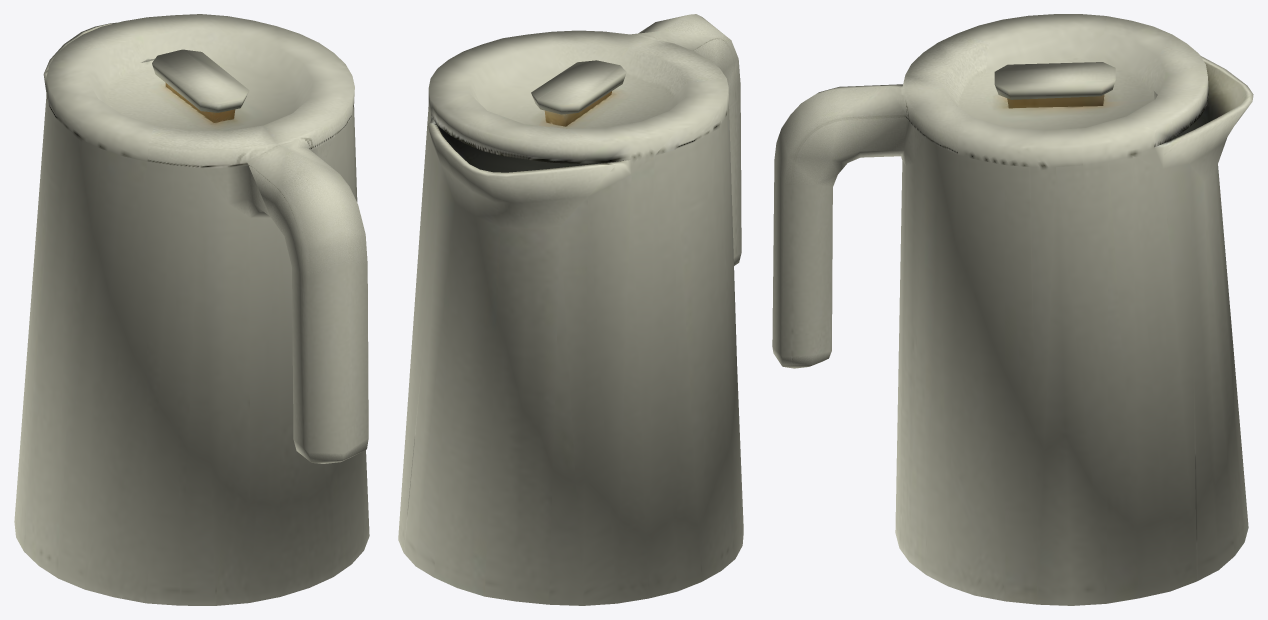
Rendered from tripo_convert_b9571f3a-6450-4f92-a36a-bebbc66baf66.fbx.
The picture shows the model from 3 angles, left to right: view 1: azimuth 30°, elevation 25°; view 2: azimuth 150°, elevation 25°; view 3: azimuth 270°, elevation 25°; orthographic projection. The views are drawn at different scales.
Visible parts, largest first — view 1: tripo_node_b9571f3a; view 2: tripo_node_b9571f3a; view 3: tripo_node_b9571f3a.
Part boxes in pixels (x1,y1,x2,y2): tripo_node_b9571f3a: (14,14,369,605); tripo_node_b9571f3a: (398,14,743,605); tripo_node_b9571f3a: (772,14,1253,605).
Bounding box in the file's own units: 0.6934 × 0.998 × 0.9473.
Materials: 1 (1 with a texture image).
